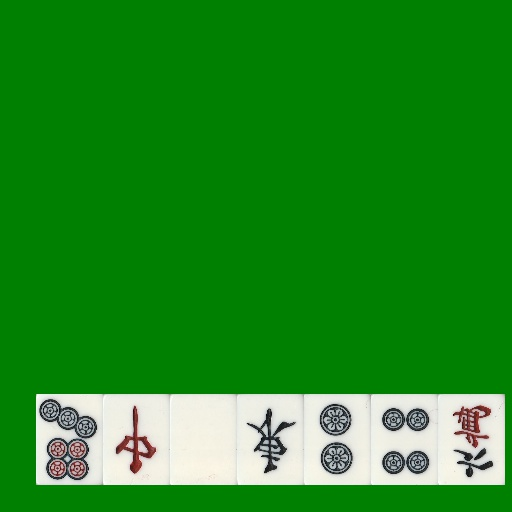2p: (304, 394, 371, 485)
4p: (371, 394, 438, 485)
6m: (438, 394, 505, 485)
7p: (36, 394, 103, 485)
east: (237, 394, 304, 485)
tyun: (103, 394, 170, 485)
white: (170, 394, 237, 485)
